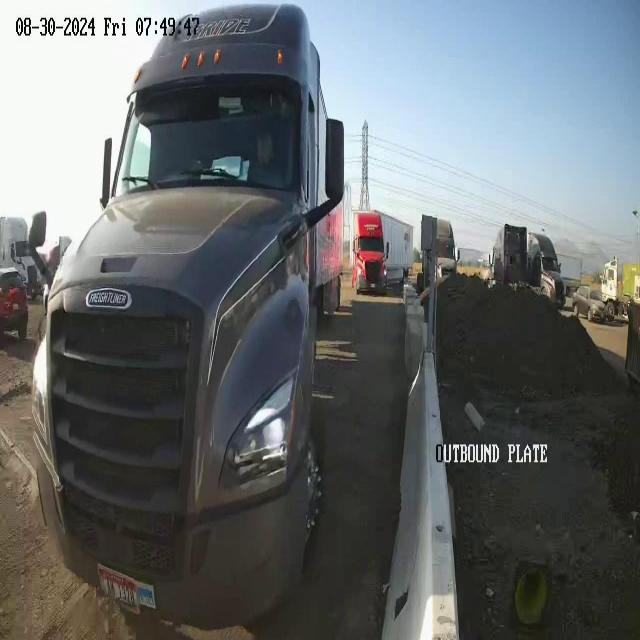CONTAINER: (306, 21, 346, 279), (380, 206, 416, 274)
